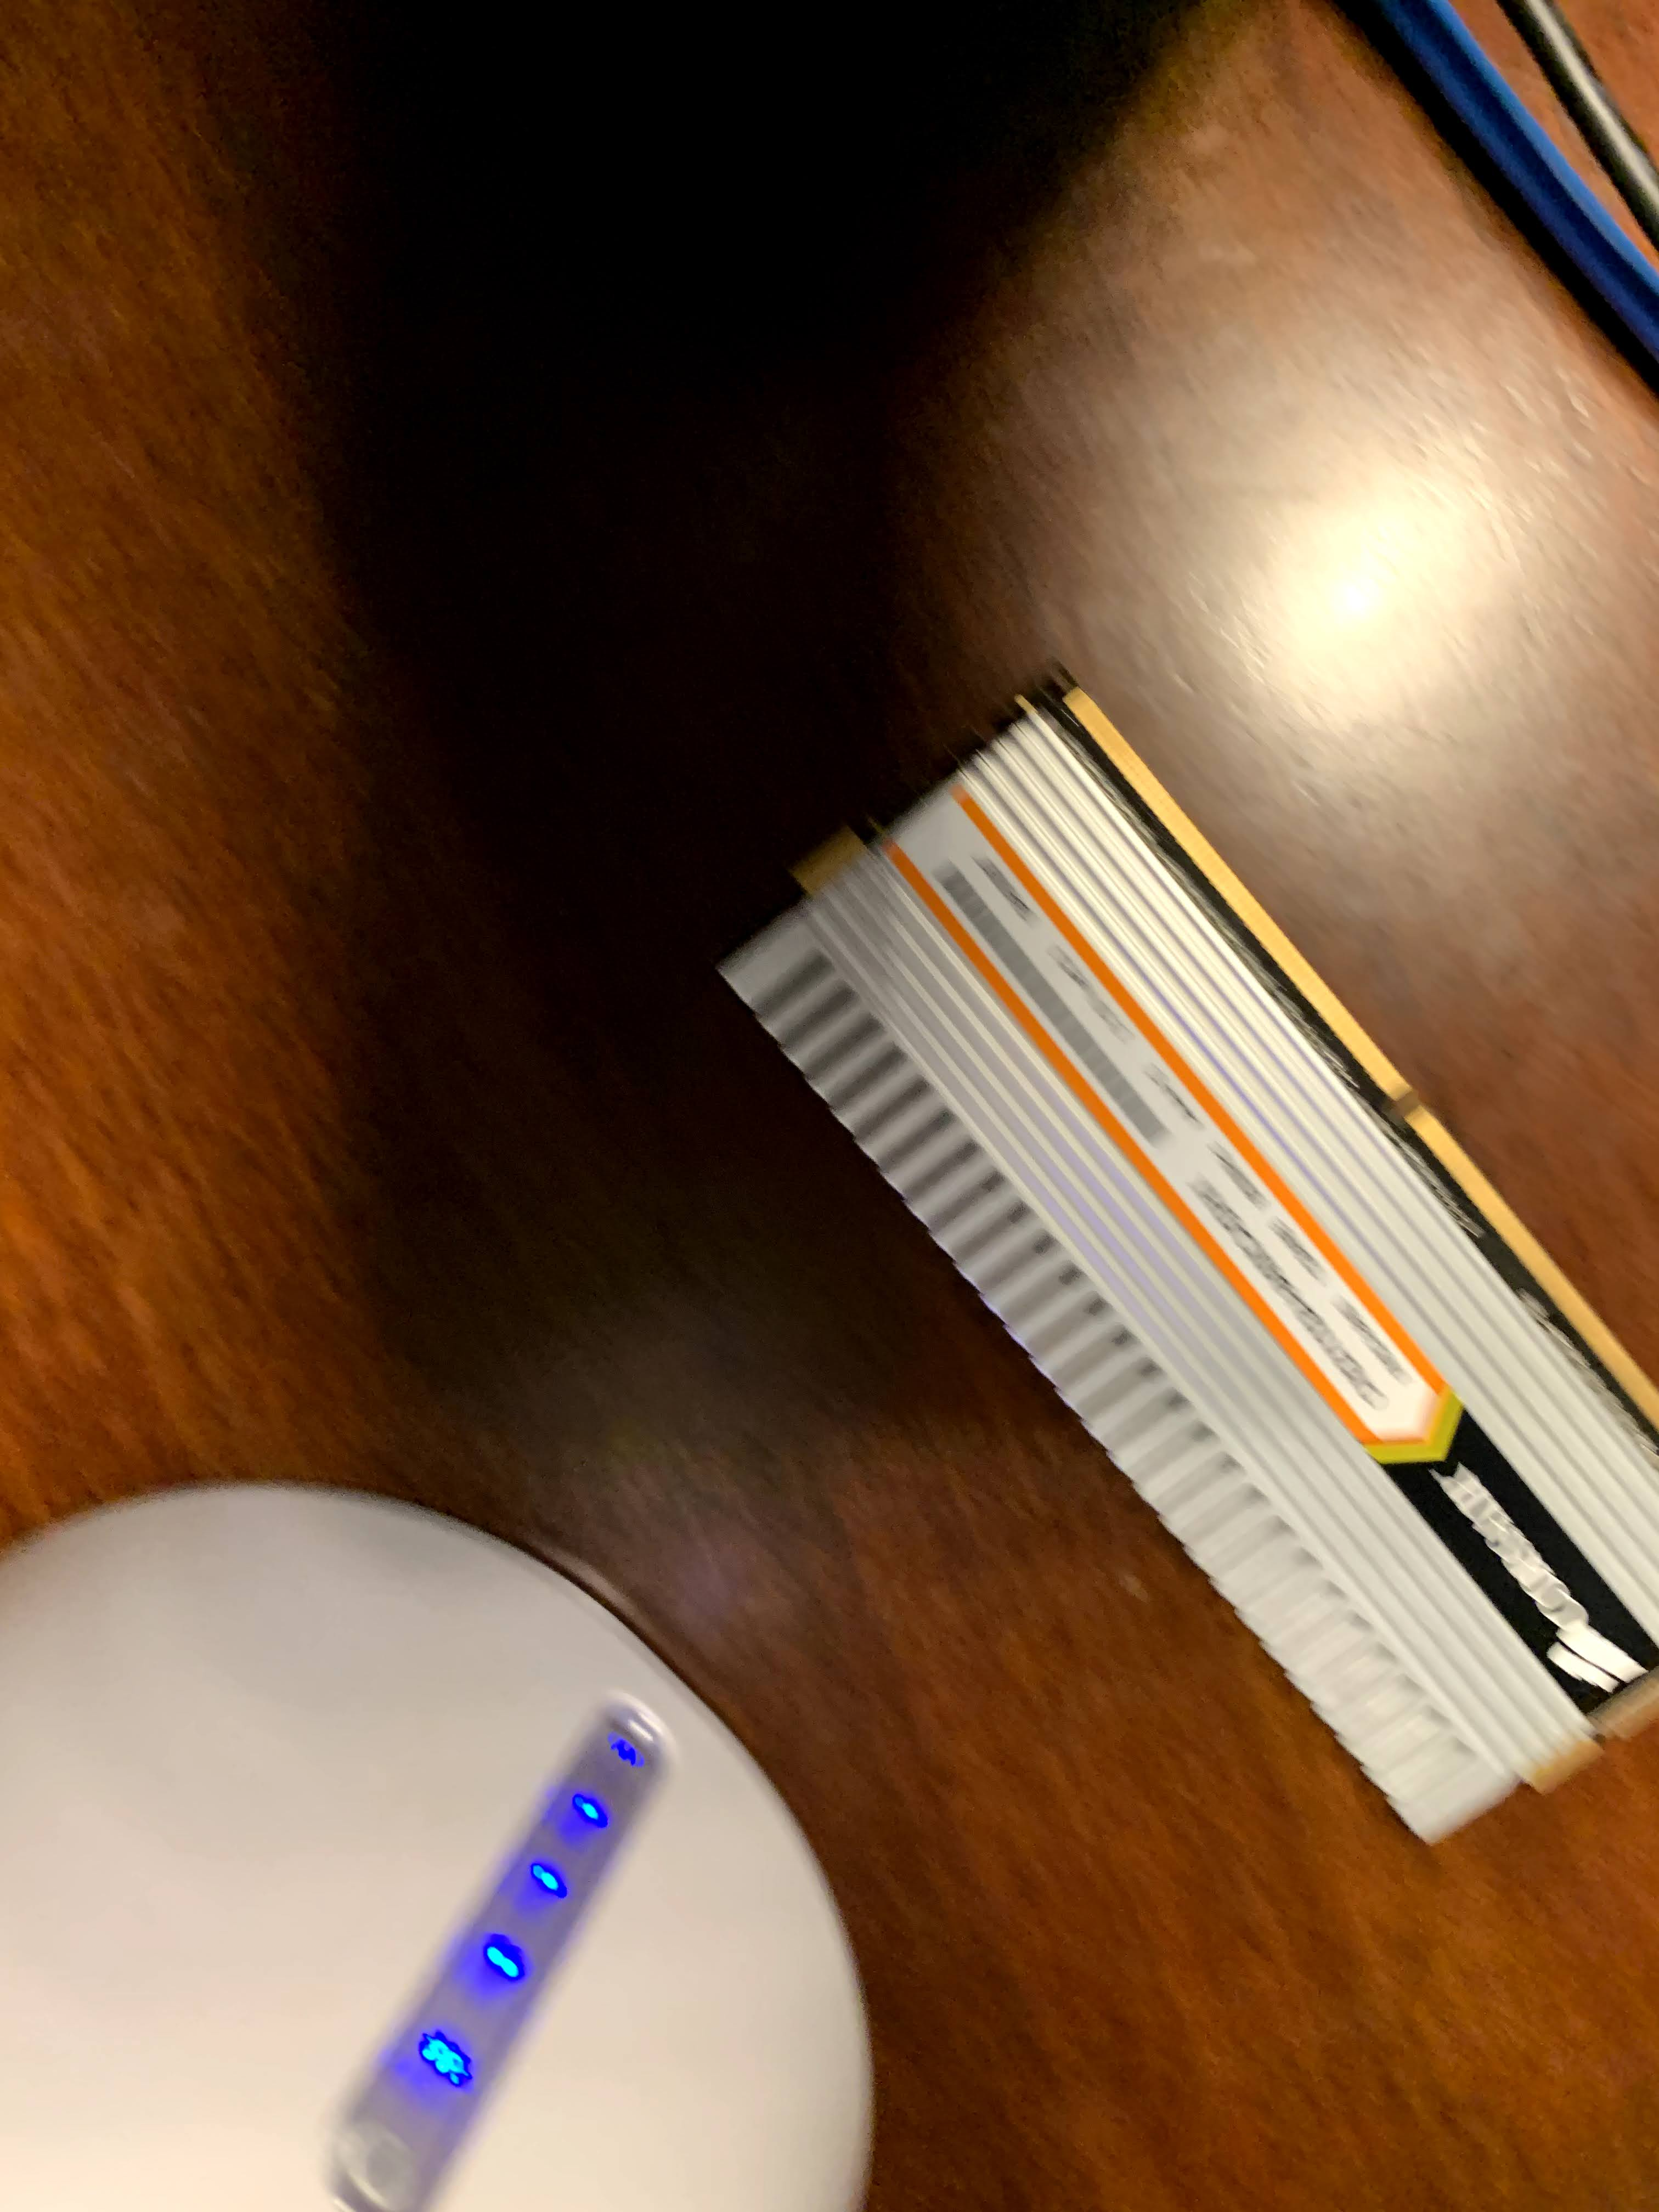Space-debris-medium: (723, 660, 1659, 1893)
